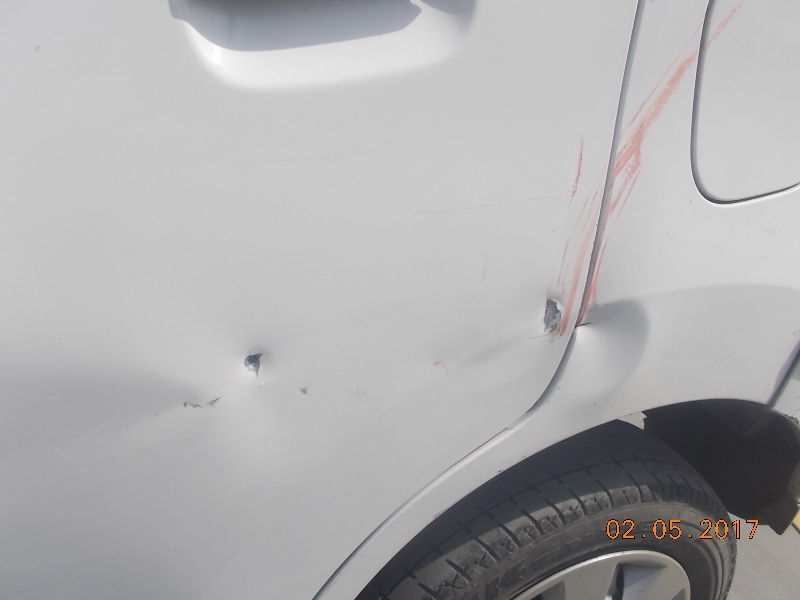Dislocation: (236, 285, 262, 435)
Large_tear_or_damage: (481, 309, 787, 542)
